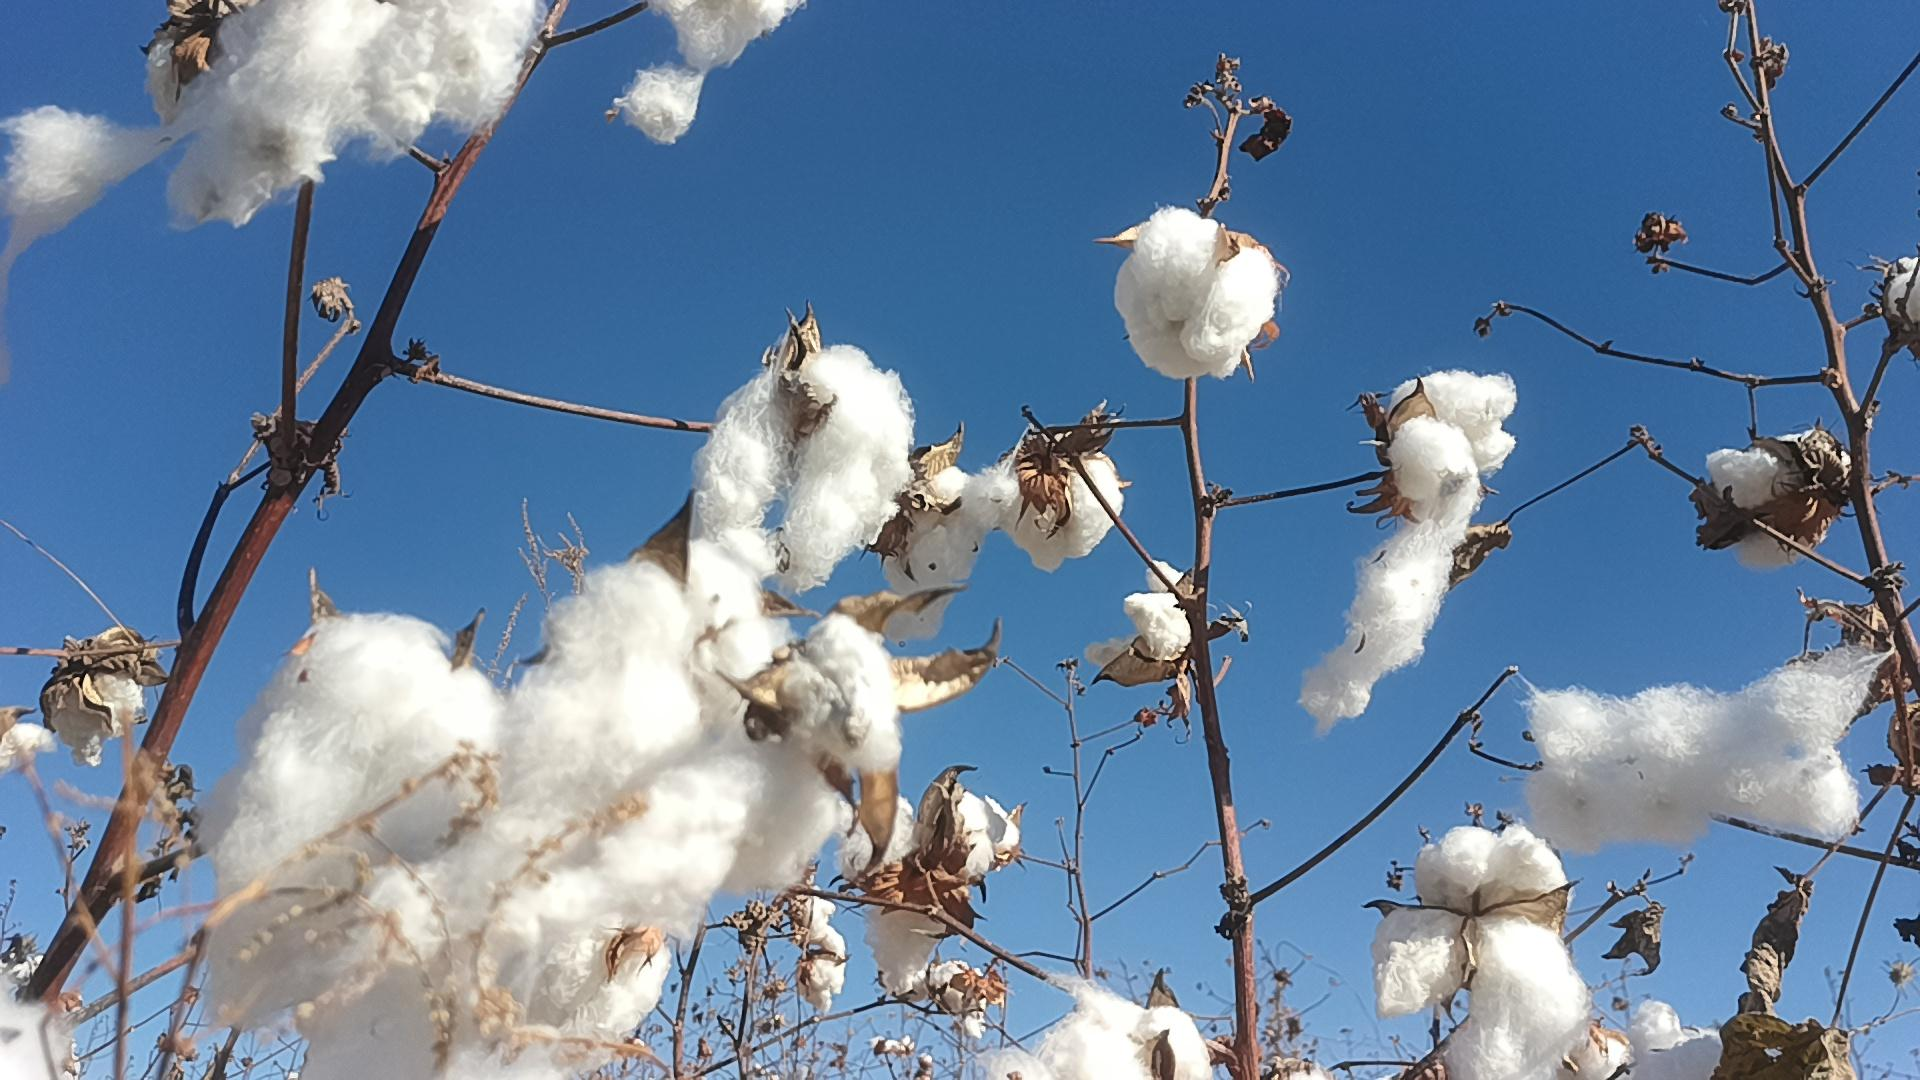cotton_ready: (3, 0, 535, 270), (508, 535, 844, 905), (200, 613, 502, 1023), (1302, 365, 1515, 727), (311, 878, 669, 1080), (1520, 653, 1858, 841), (690, 343, 910, 587), (1378, 831, 1585, 1080), (1110, 206, 1278, 378), (844, 795, 988, 990), (613, 0, 798, 148), (960, 440, 1126, 578), (1705, 430, 1855, 563), (988, 998, 1216, 1080), (882, 468, 988, 640), (787, 616, 895, 775), (1080, 563, 1185, 675), (55, 651, 144, 773), (1618, 998, 1724, 1079), (0, 993, 83, 1080)
